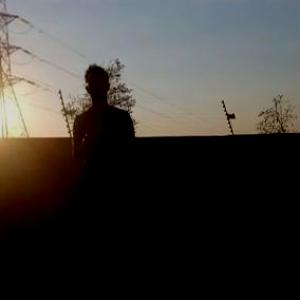follow: (71, 59, 164, 294)
